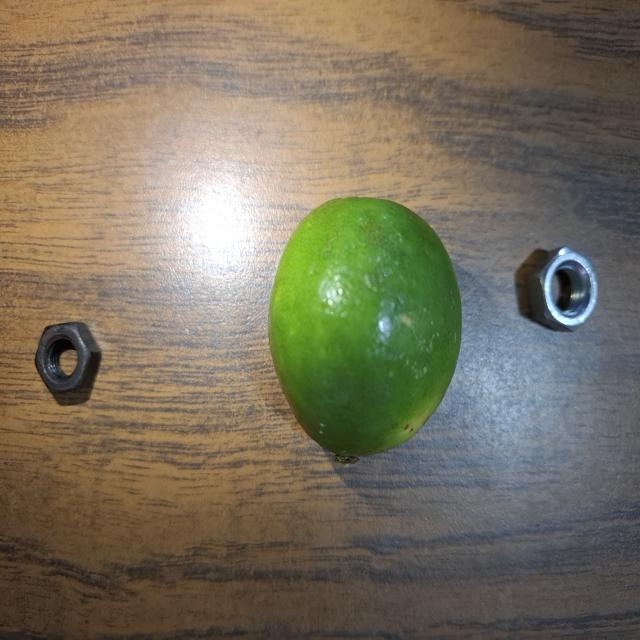limon: (265, 193, 464, 472)
milimetrico: (26, 318, 102, 395)
tuerca: (527, 240, 605, 338)
